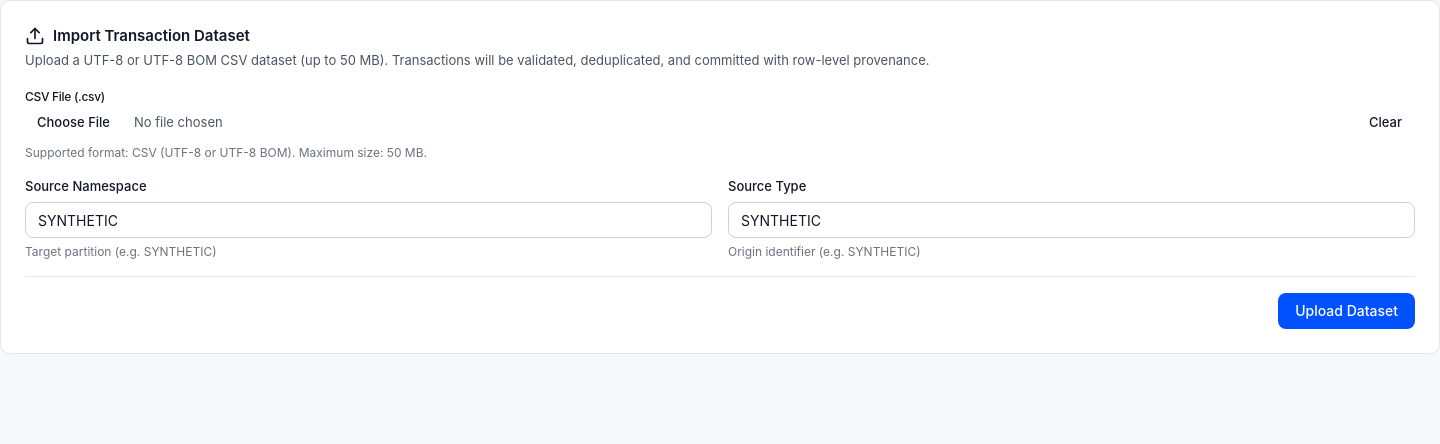
Test: DatasetUploadCard component (F4.4) › renders upload form and handles successful 201 ingestion
Earlier steps of the test are not shown.
Expected: the heading "Import Transaction Dataset" is shown, [53,25,250,47]
Expected: the file field labelled "CSV File (.csv)" is shown, [25,107,1344,137]
Click the button "Upload Dataset": (1347, 311) [1278,293,1415,329]
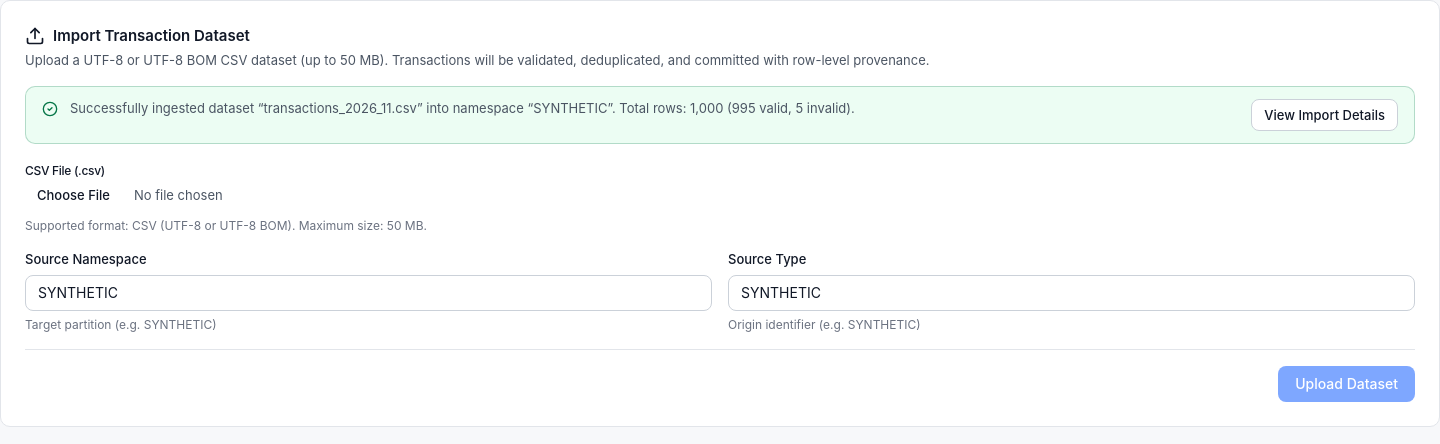
Expected: the message named "upload ingestion success" is shown, [25,86,1415,144]
Expected: the text "Successfully ingested dataset" is shown, [70,100,264,116]
